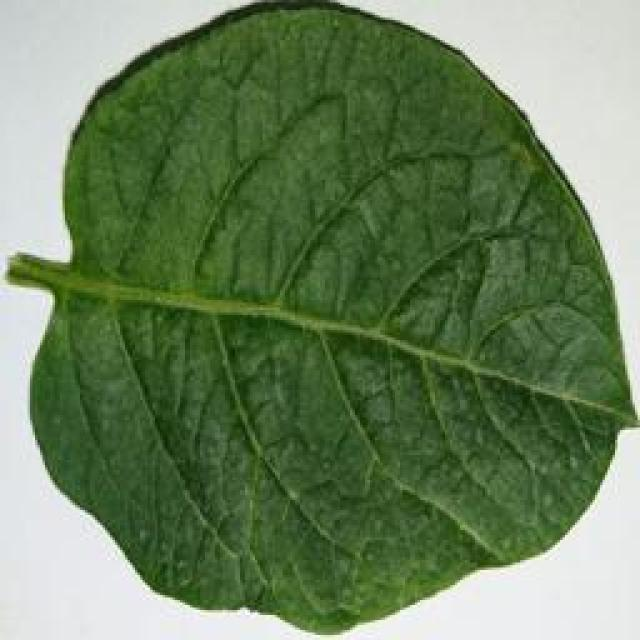Potato_Healthy: (7, 7, 624, 634)
